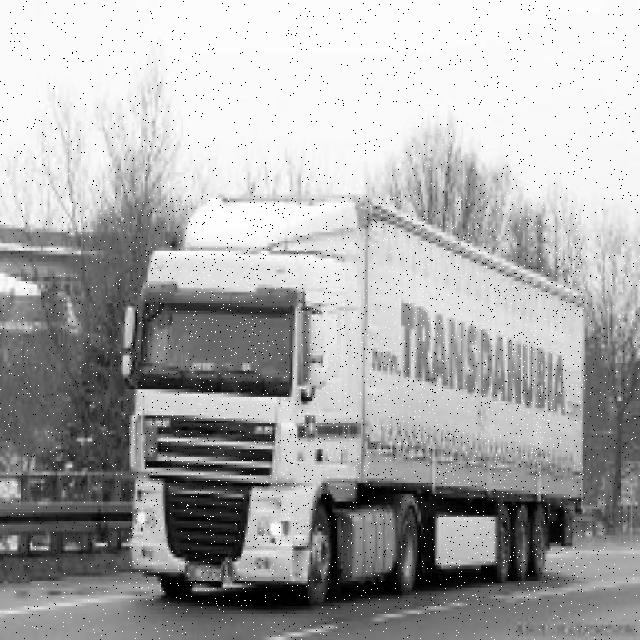Tractor Trailer: (128, 196, 585, 608)
